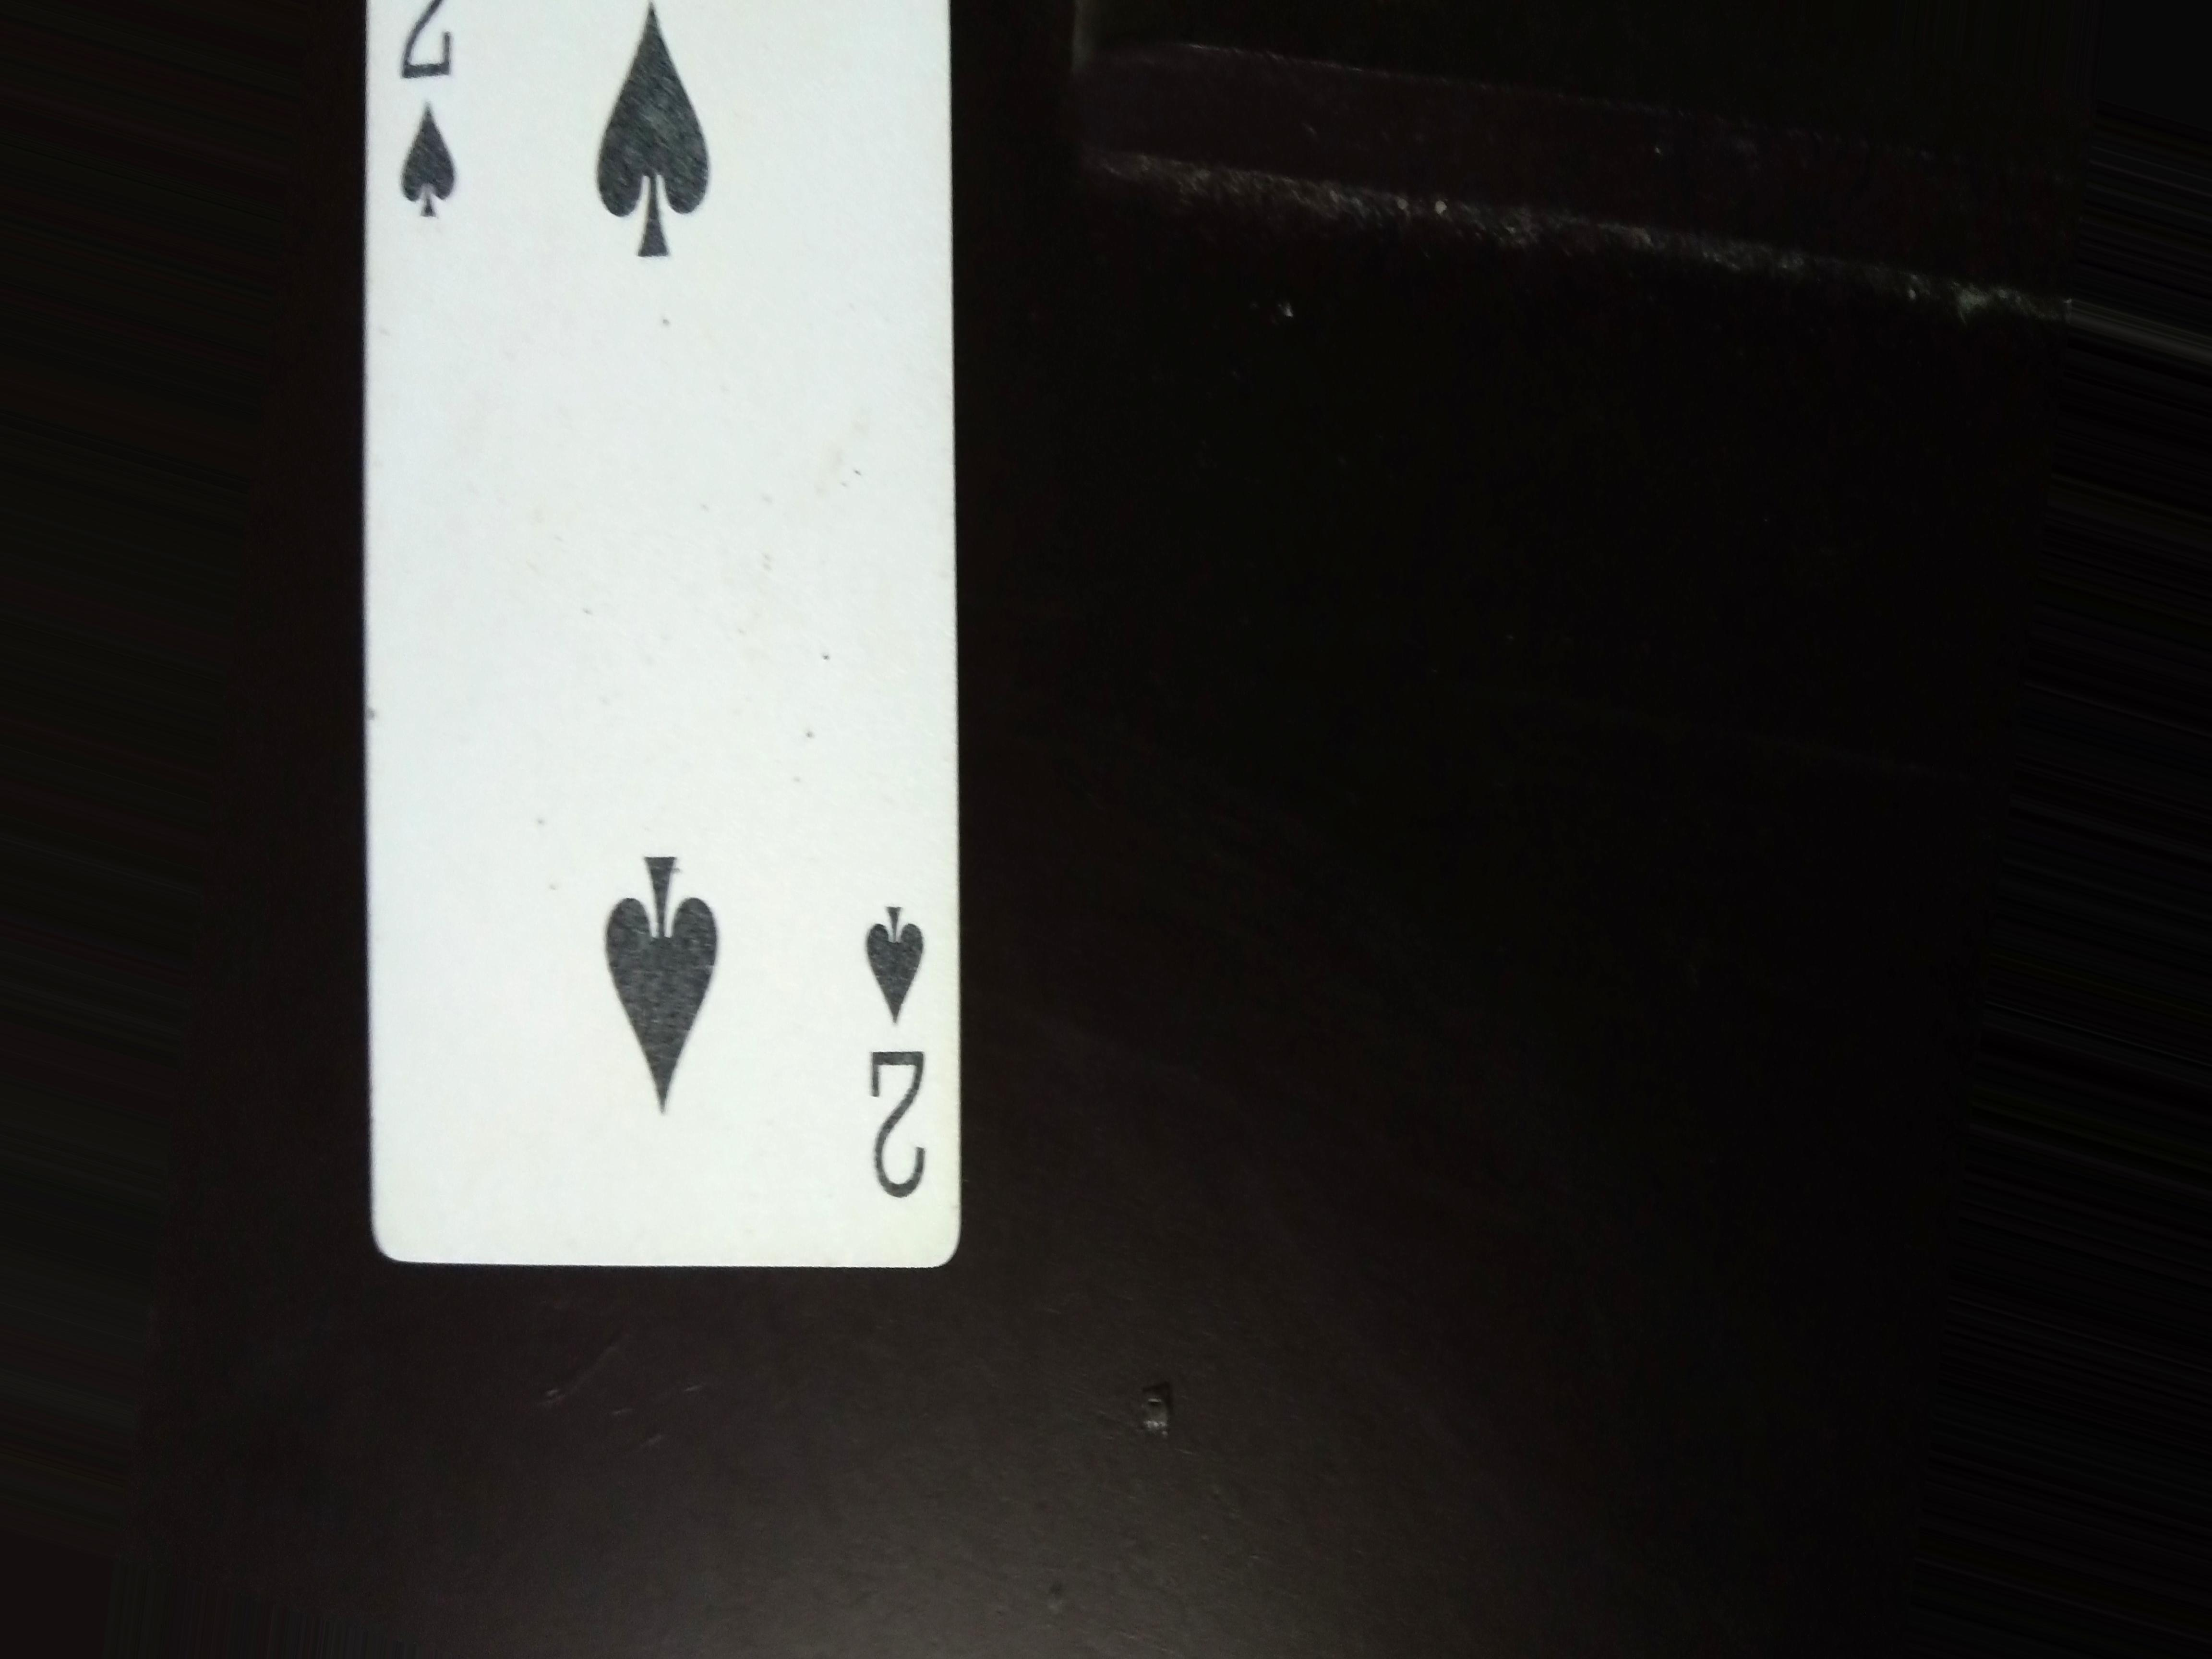2S: (371, 2, 498, 244)
